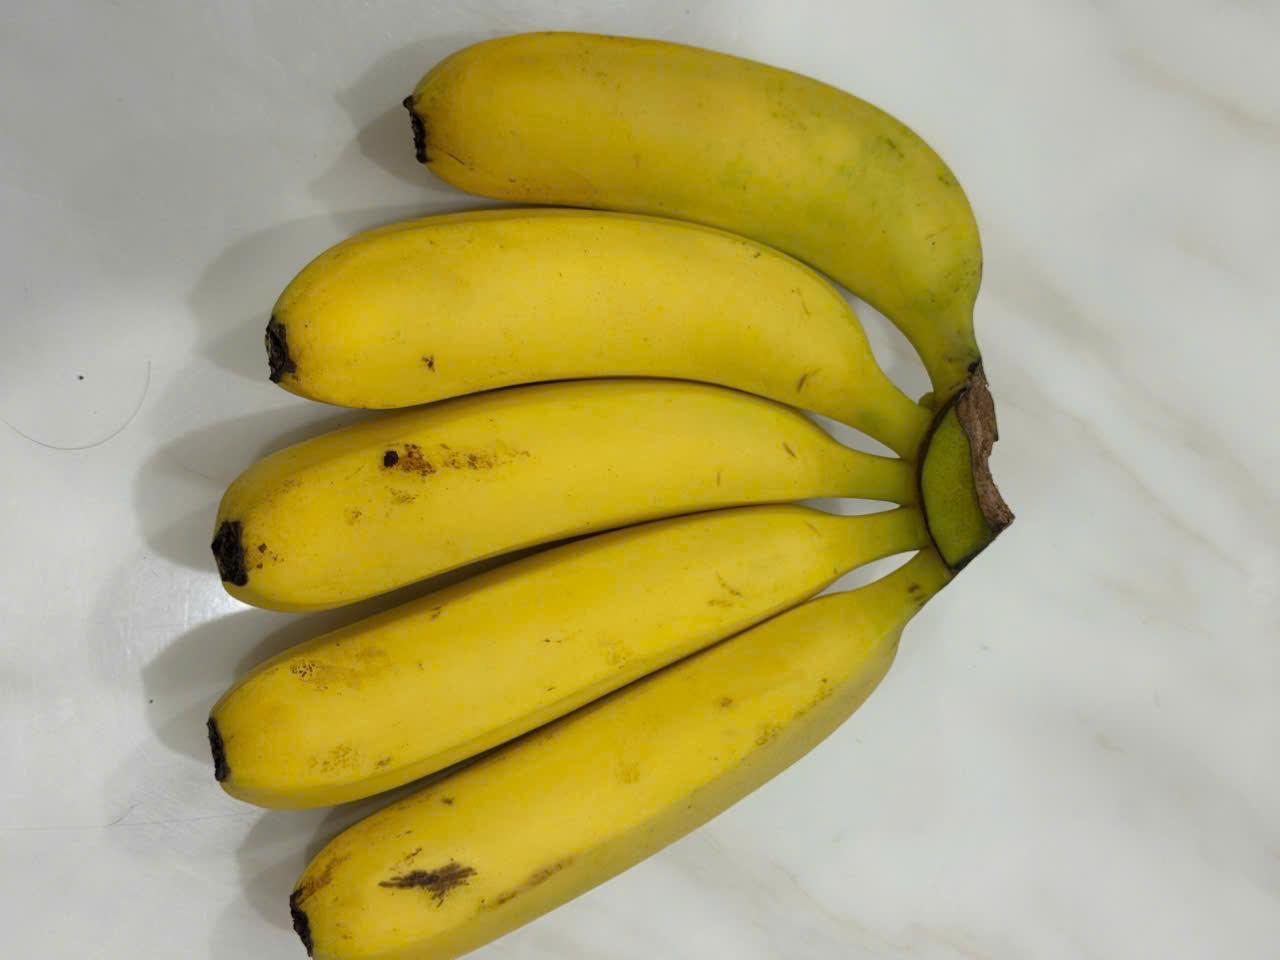banana: (170, 3, 1001, 953), (366, 6, 1013, 368), (191, 388, 948, 619)
